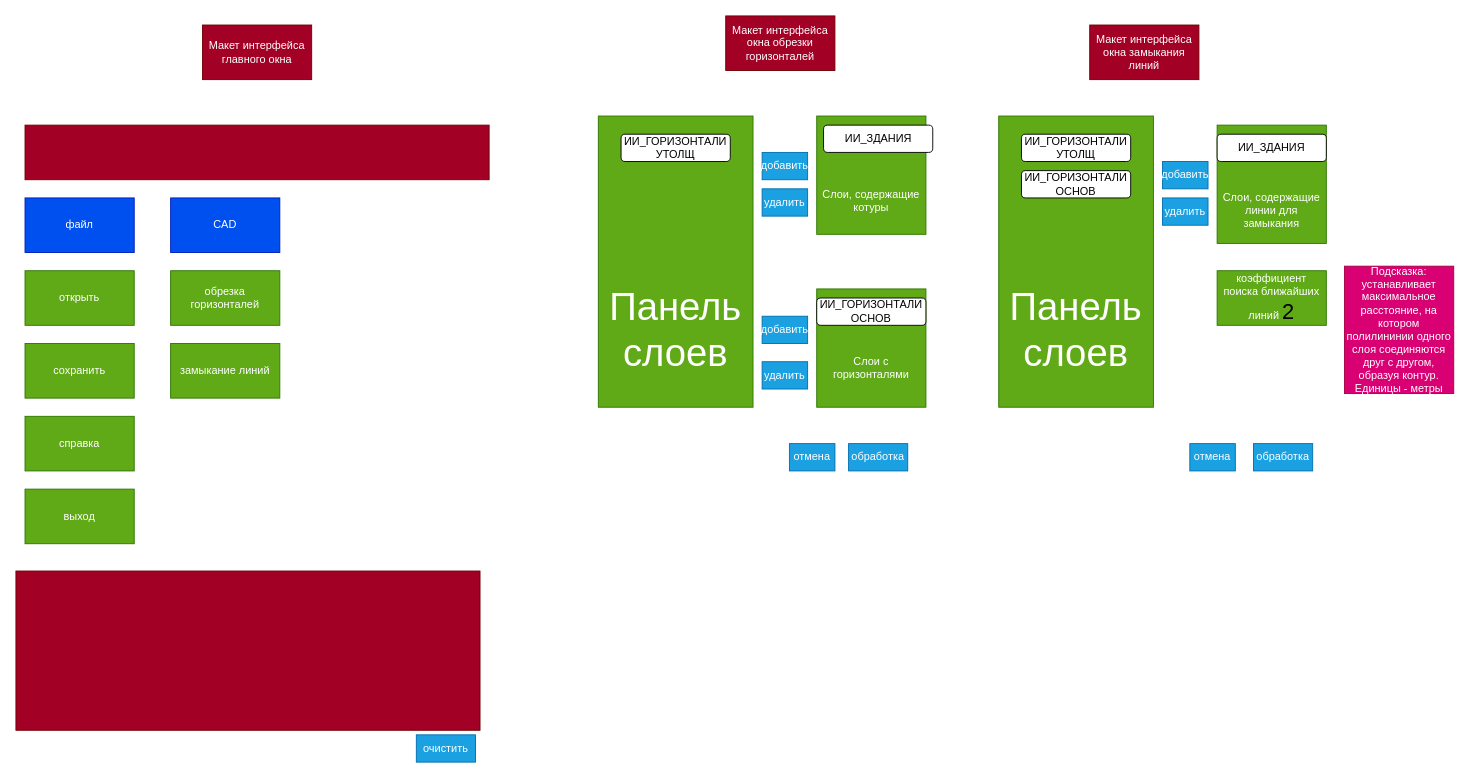
This 1470x778 diagram has some shape labels left out. Each missing label, with the centre of its shape:
"главное меню" belongs at pixel 256 152.
"Журнал сообщений" belongs at pixel 247 650.
